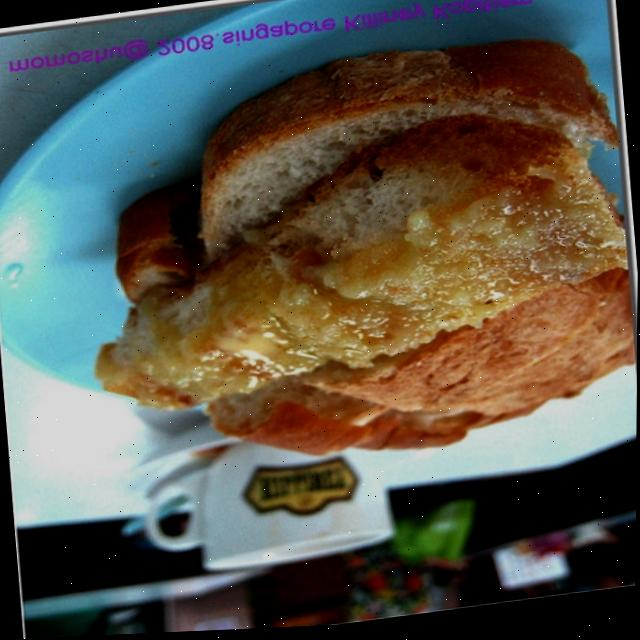面包点心: (54, 7, 640, 567)
